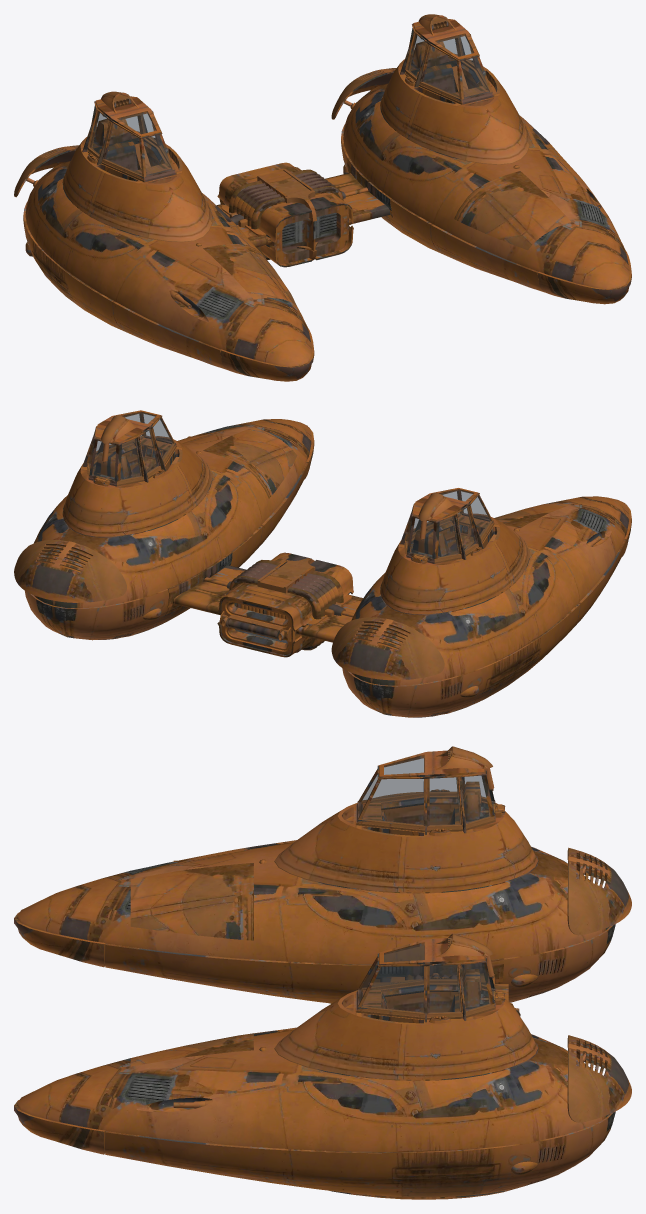
Rendered from cloudcar.glb.
The picture shows the model from 3 angles, top to bottom: view 1: azimuth 30°, elevation 25°; view 2: azimuth 150°, elevation 25°; view 3: azimuth 270°, elevation 25°; orthographic projection. The views are drawn at different scales.
Size of the model in its own units: 4.57 by 1.88 by 4.24.
Materials: 2 (1 with a texture image).
